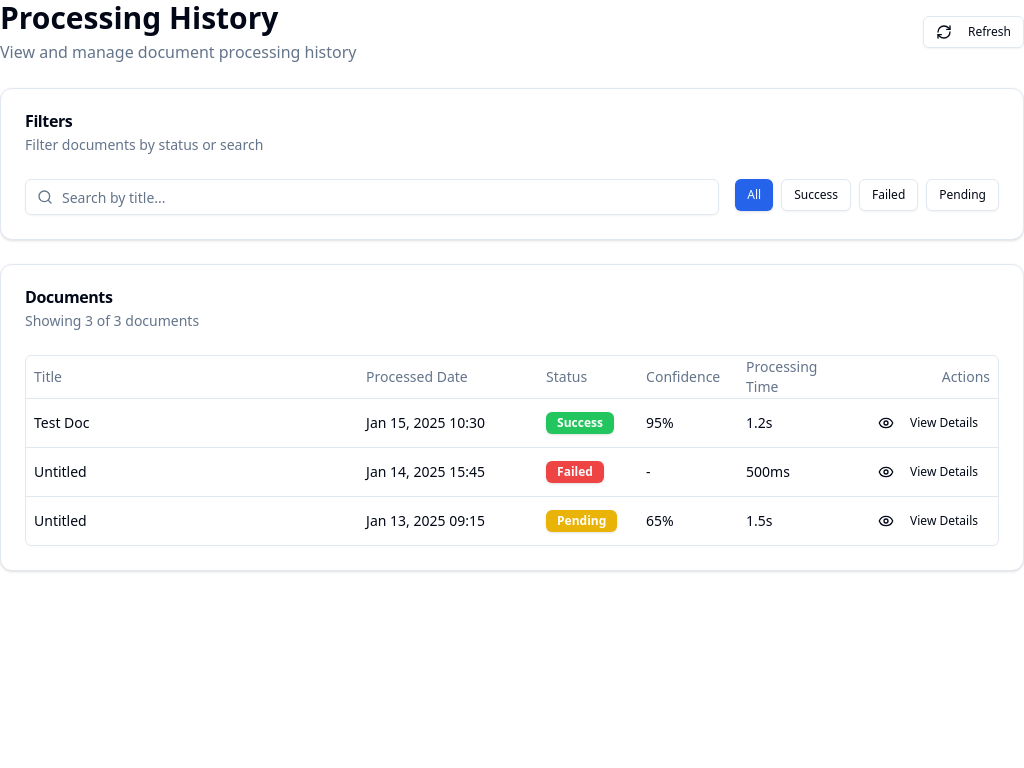
Test: HistoryPage › shows error message in detail dialog for failed documents
What coordinates should you click on to do the following:
click the button "View Details" in the row of "Jan 14, 2025 15:45"
I would click on:
 (928, 472)
Its box is [866,456,990,488].
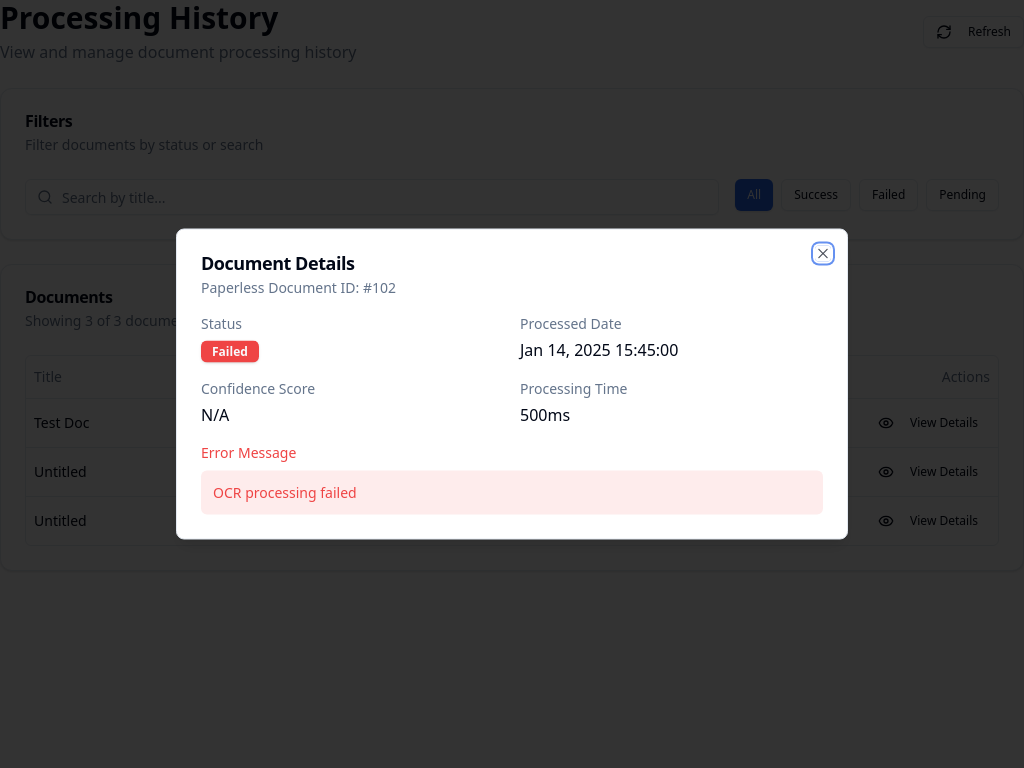
Check: the text "Error Message" is shown, box [201,442,296,462]
Check: the text "OCR processing failed" is shown, box [201,470,823,514]
